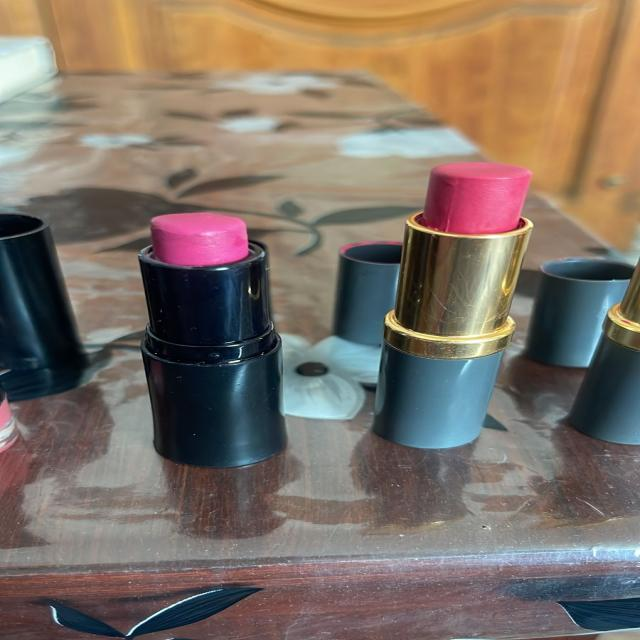lip stick: (375, 158, 519, 456), (150, 198, 293, 465)
